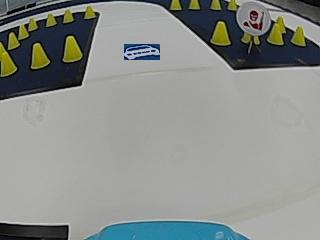evil: (236, 2, 270, 35)
